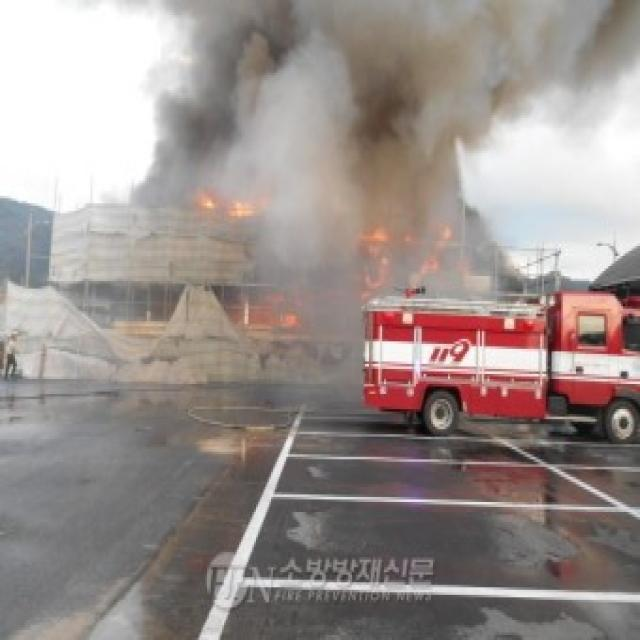Fire: (238, 292, 302, 332), (195, 186, 259, 218)
Smoke: (145, 0, 588, 344)
